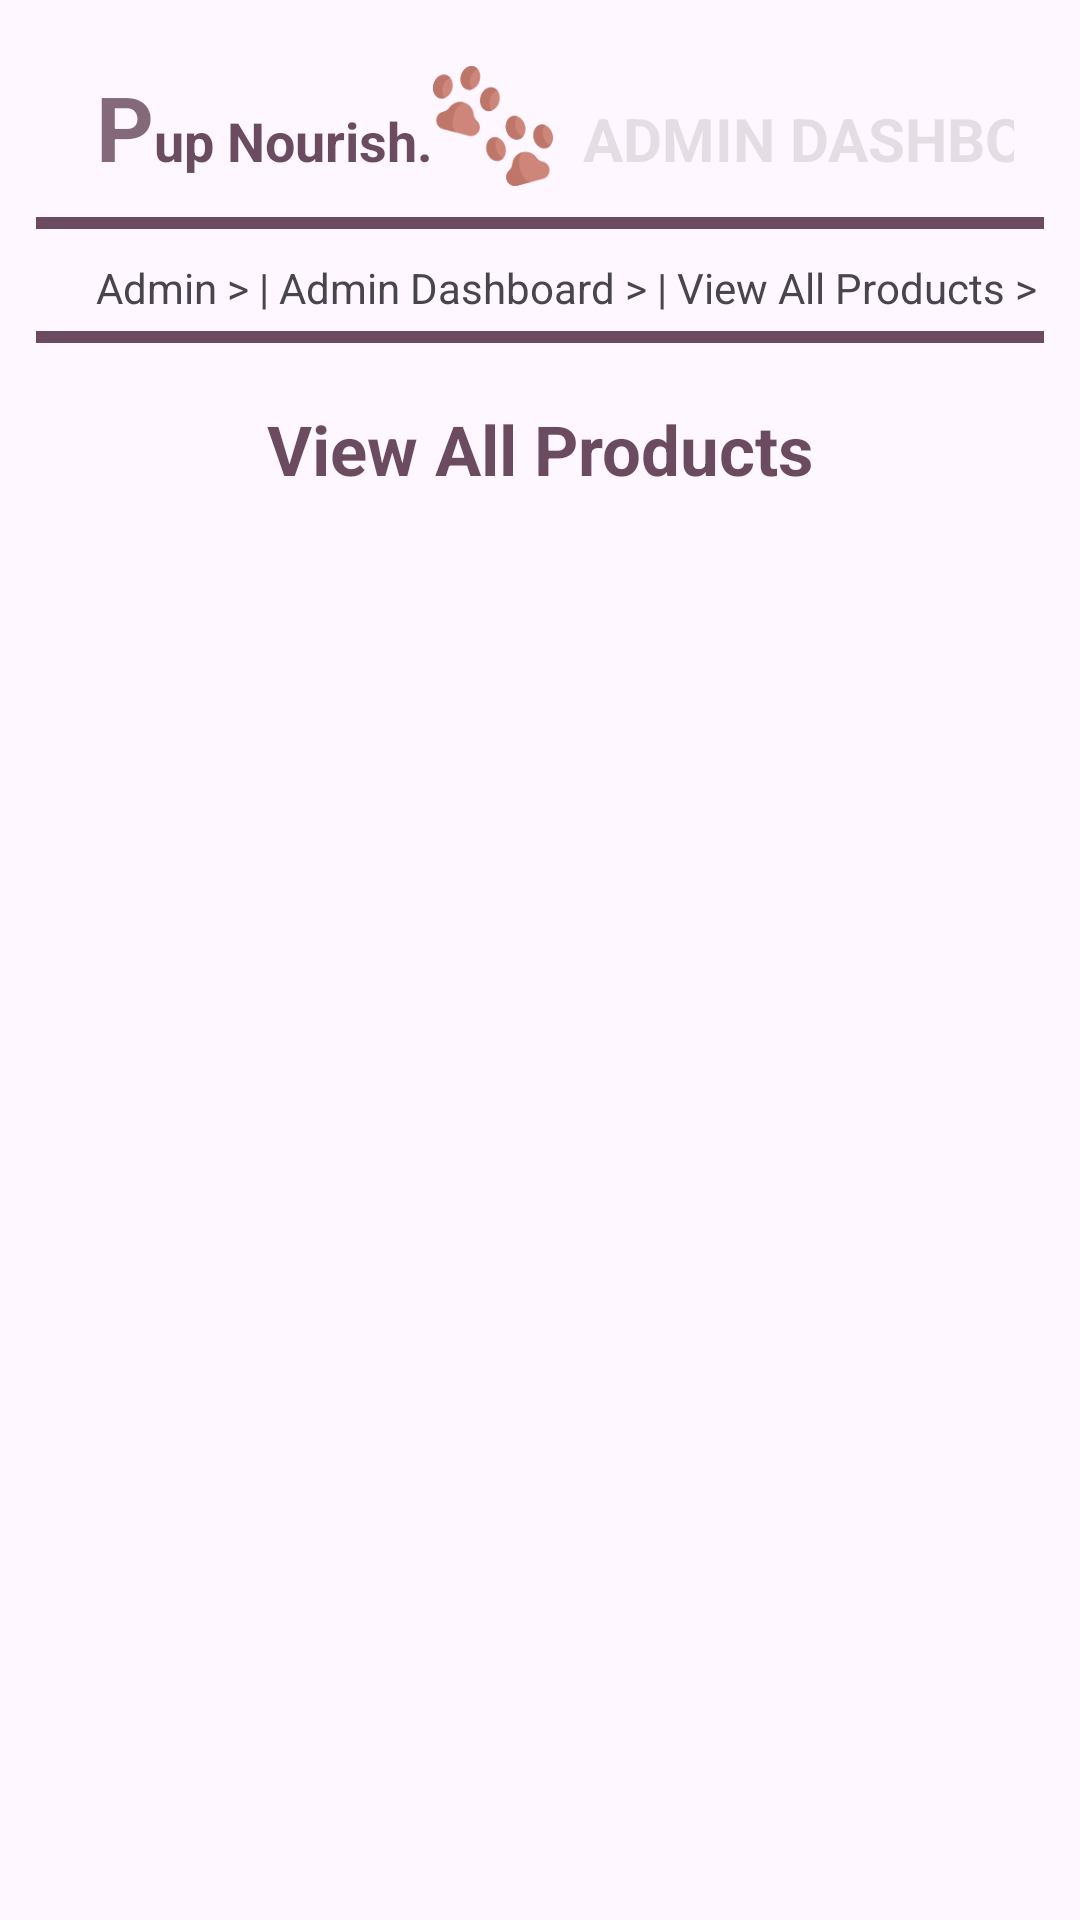

Icons on this 1080px×1920px Android screen, each with the point to tap as (x,y):
paw: (493,126)
